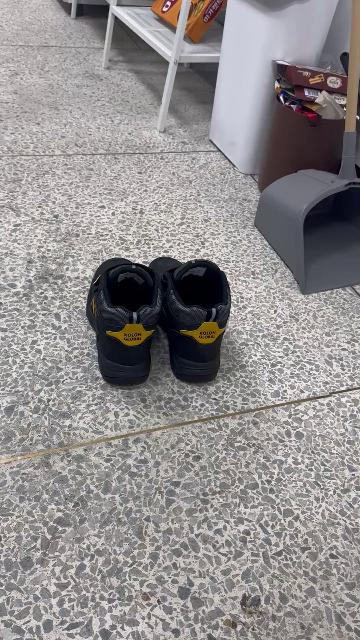shoe_worn: (153, 258, 231, 384), (87, 257, 159, 385)
